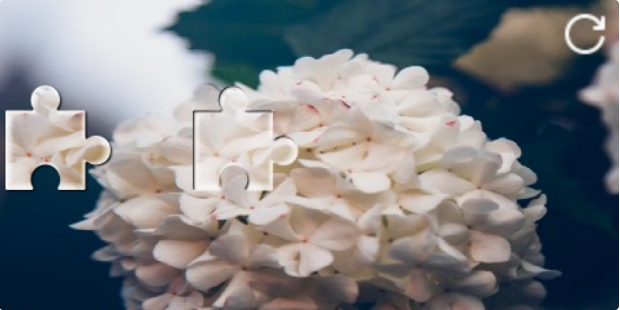target: (194, 87, 297, 191)
